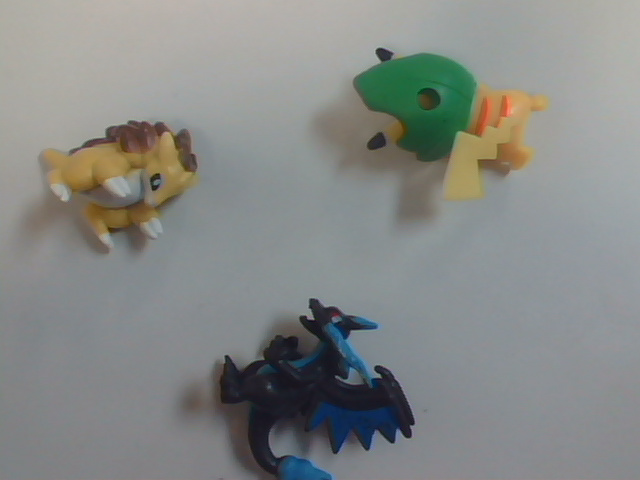charizard: (216, 263, 442, 479)
pikachu: (351, 8, 555, 215)
sandslash: (26, 99, 208, 294)
